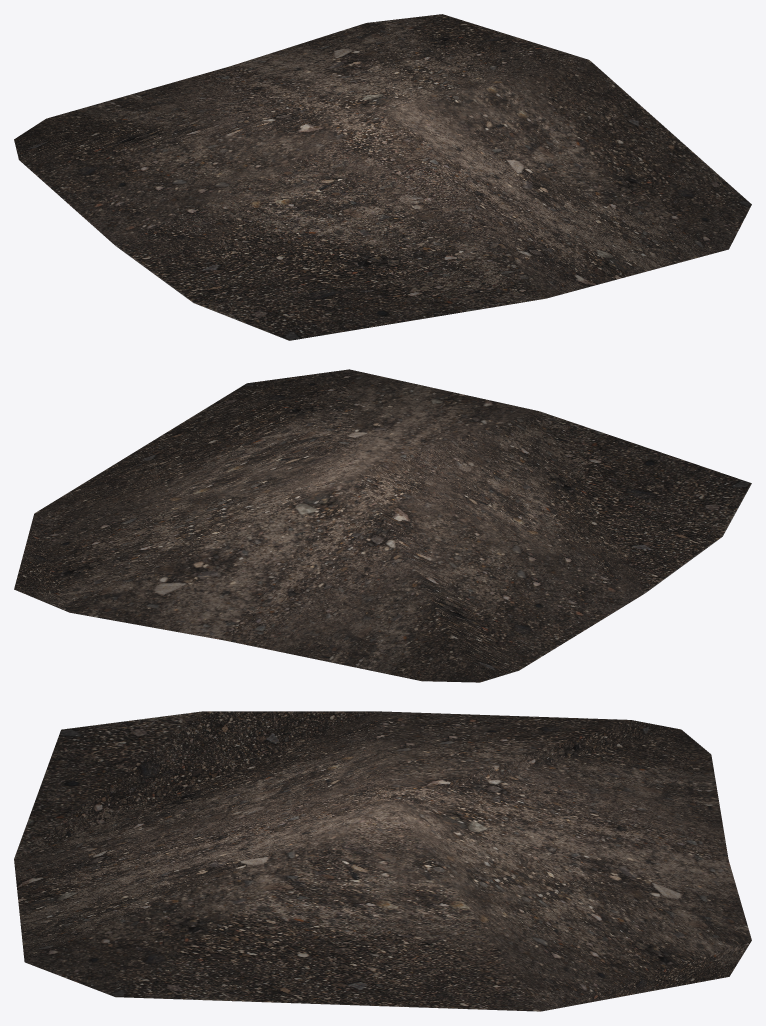
File: ground_patch.fbx
3 views of the same model, one above another, from view 1: azimuth 30°, elevation 25°; view 2: azimuth 150°, elevation 25°; view 3: azimuth 270°, elevation 25° (orthographic). The views are drawn at different scales.
Parts seen in each view (by area): view 1: Mesh; view 2: Mesh; view 3: Mesh.
Part boxes in pixels (x1=…): Mesh: x1=14, y1=14, x2=751, y2=340; Mesh: x1=14, y1=369, x2=751, y2=682; Mesh: x1=14, y1=711, x2=751, y2=1011.
Bounding box in the file's own units: 329 × 33.07 × 341.
